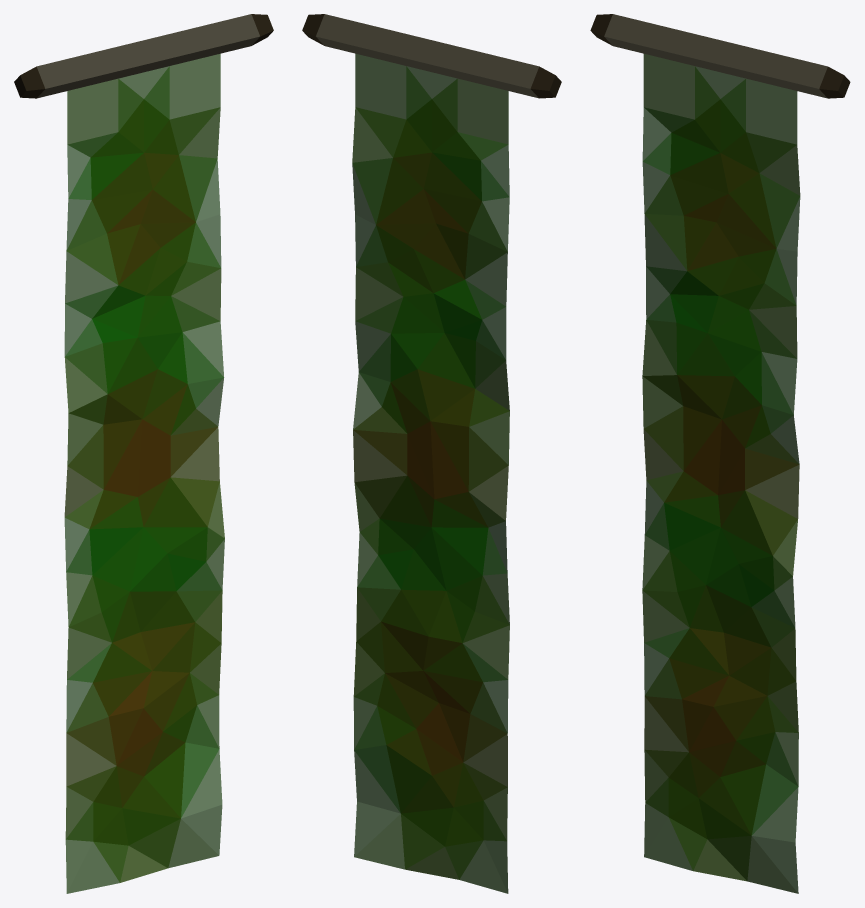
File: Prop_TapestryThinB.fbx
3 views of the same model, side by side, from view 1: azimuth 30°, elevation 25°; view 2: azimuth 150°, elevation 25°; view 3: azimuth 330°, elevation 25° (orthographic).
Visible parts, largest first — view 1: Prop_TapestryThinB; view 2: Prop_TapestryThinB; view 3: Prop_TapestryThinB.
Part boxes in pixels (x1,y1,x2,y2): Prop_TapestryThinB: (14,14,273,893); Prop_TapestryThinB: (302,14,561,893); Prop_TapestryThinB: (590,14,850,893).
Size of the model in its own units: 80.63 by 260 by 10.
